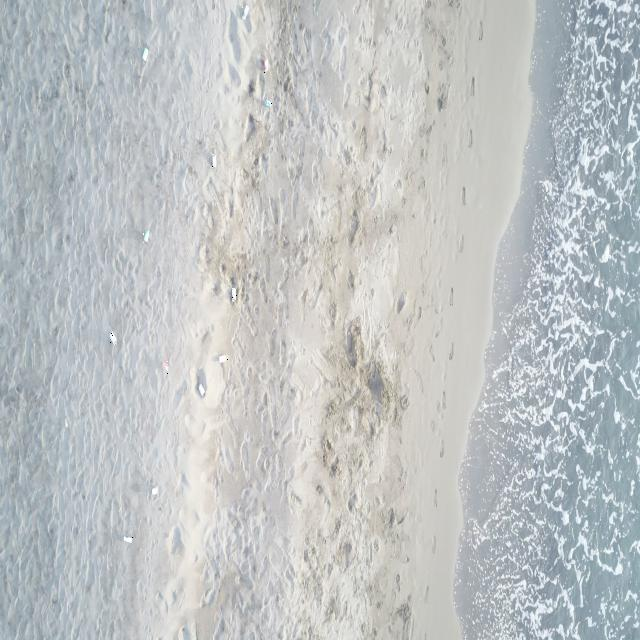tin-and-aluminum-cans: (240, 4, 248, 23), (210, 150, 218, 168), (230, 286, 237, 304), (108, 331, 116, 346), (142, 46, 149, 63), (198, 382, 205, 397), (218, 354, 228, 364), (262, 57, 268, 73), (143, 230, 150, 243), (162, 361, 169, 374), (123, 535, 133, 544), (264, 99, 272, 109), (152, 485, 158, 496)
